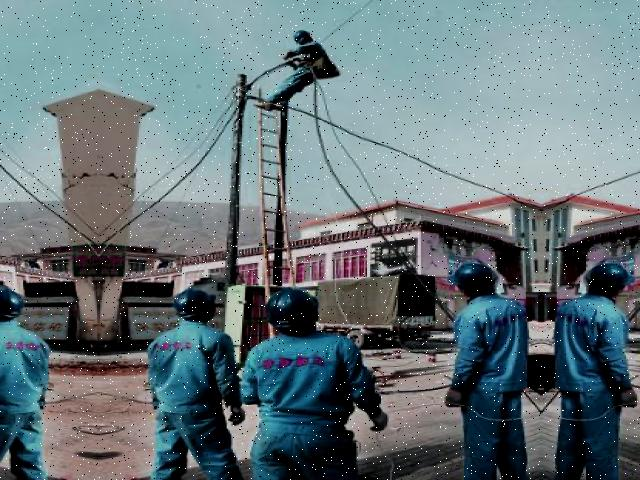Helmet: (264, 281, 329, 331), (443, 260, 506, 296), (584, 260, 639, 299), (173, 285, 224, 324)
